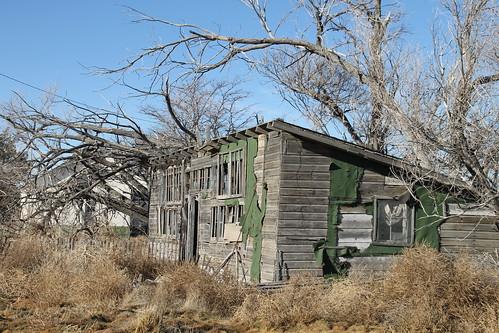building: (138, 144, 455, 291)
sky: (1, 1, 361, 127)
tree: (168, 1, 497, 174)
vegetation: (5, 117, 147, 333)
